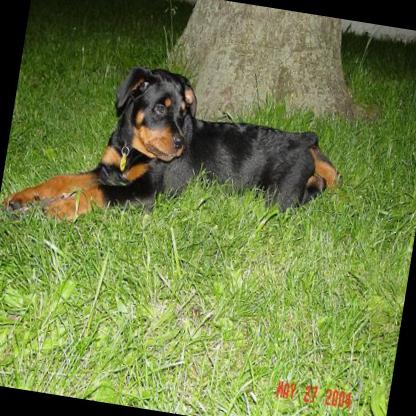Rottweiler: (0, 46, 352, 268)
